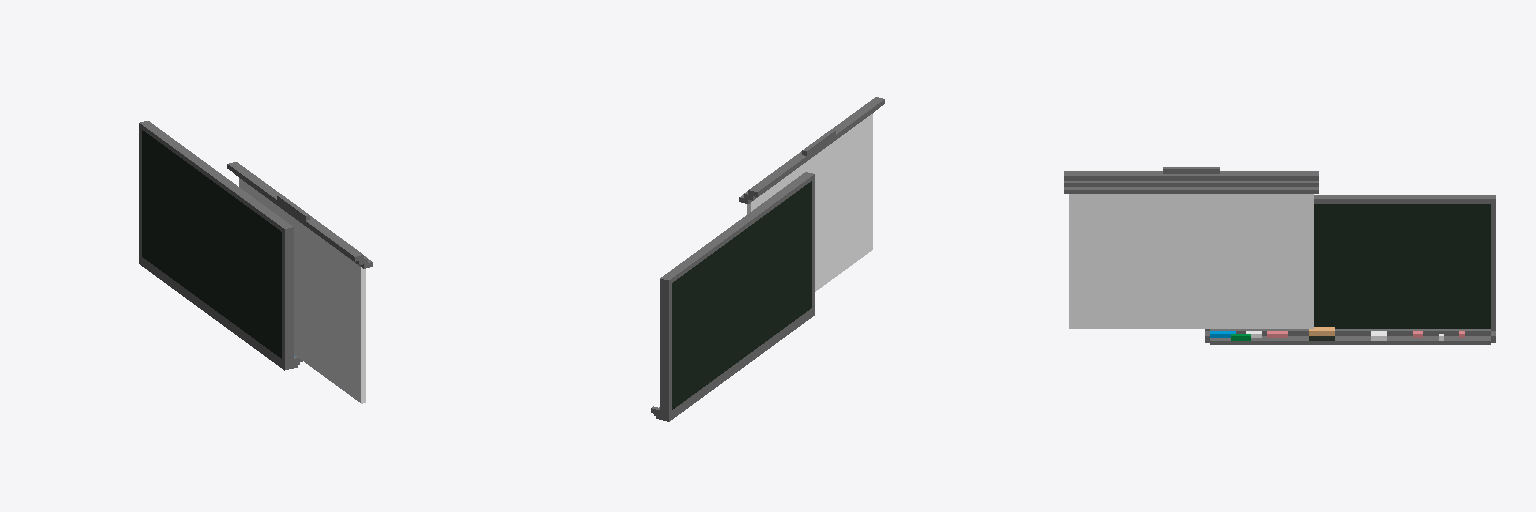
3 renders of one model, left to right at view 1: azimuth 30°, elevation 25°; view 2: azimuth 150°, elevation 25°; view 3: azimuth 270°, elevation 25°, orthographic.
Visible parts, largest first — view 1: object 1; view 2: object 1; view 3: object 1.
Boxes of the visible parts, x1=… form: object 1: x1=139, y1=121, x2=372, y2=403; object 1: x1=651, y1=97, x2=884, y2=421; object 1: x1=1064, y1=167, x2=1495, y2=344.
Bounding box in the file's own units: 0.4 × 3.6 × 8.3.
1 materials, 1 textured.